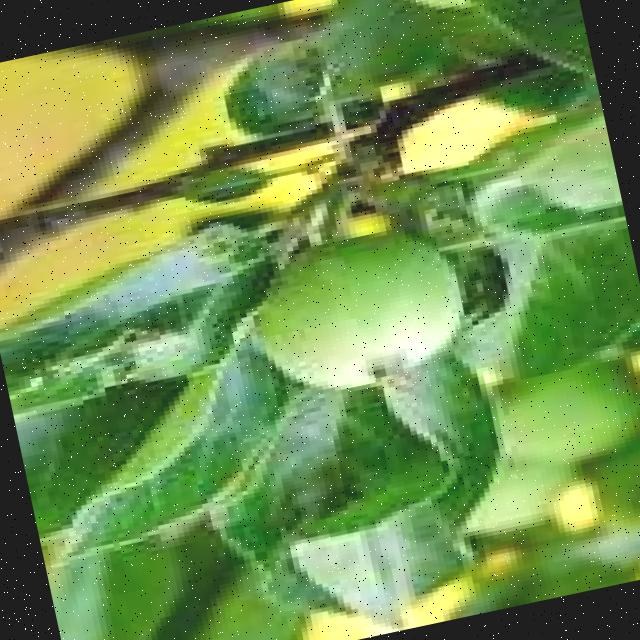Unripe: (244, 216, 474, 401)
